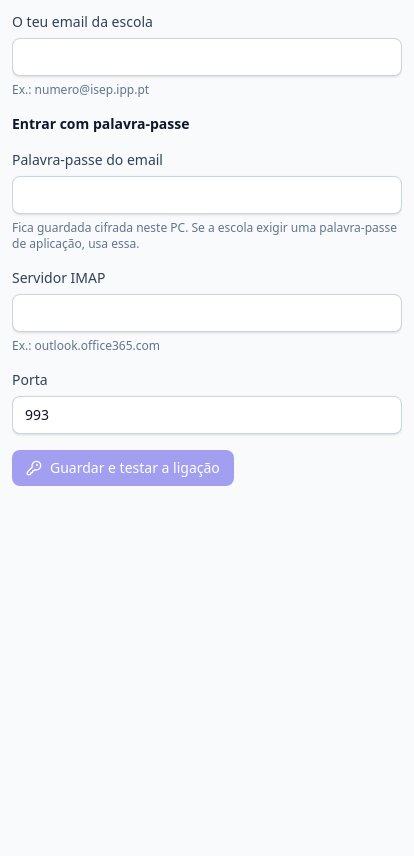
Scenario: EmailSetup: entrar com a conta da escola (Microsoft) › fora da app de secretária deixa abrir a página à parte e colar o endereço de regresso
In the field labelled "O teu email da escola": [207, 57] box [12,38,402,76], type "aluno@isep.ipp.pt"
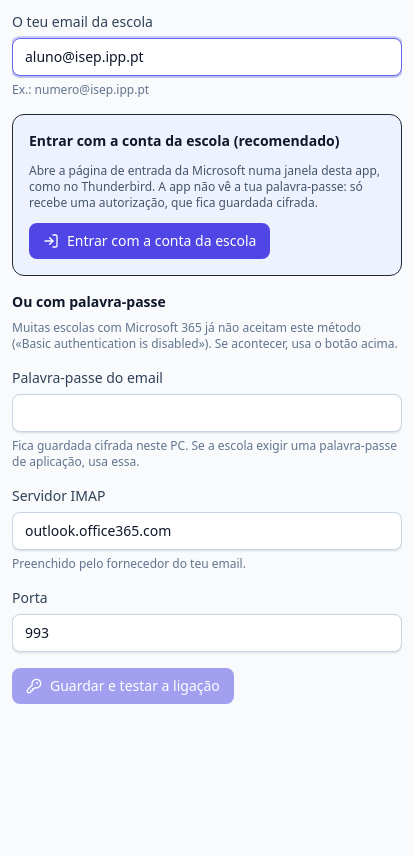
Click the button "Entrar com a conta da escola": [150, 241] box [29,223,270,259]
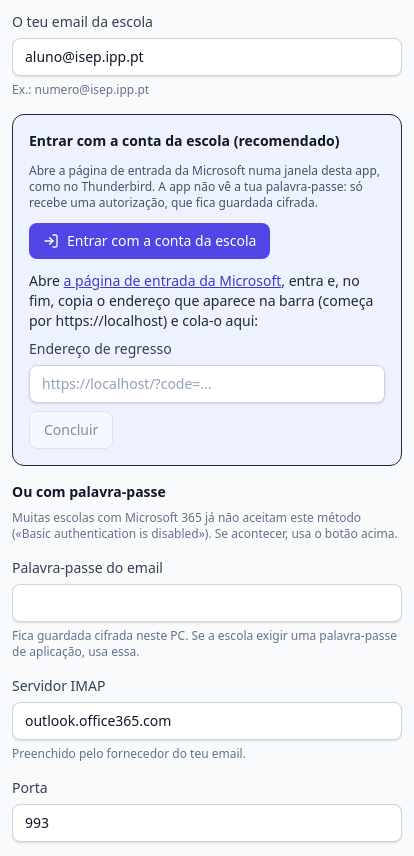
Result: the button "Concluir" is disabled at [29,411,113,449]
In the field labelled "Endereço de regresso": [207, 384] box [29,365,385,403], type "https://evil.example/?code=x"
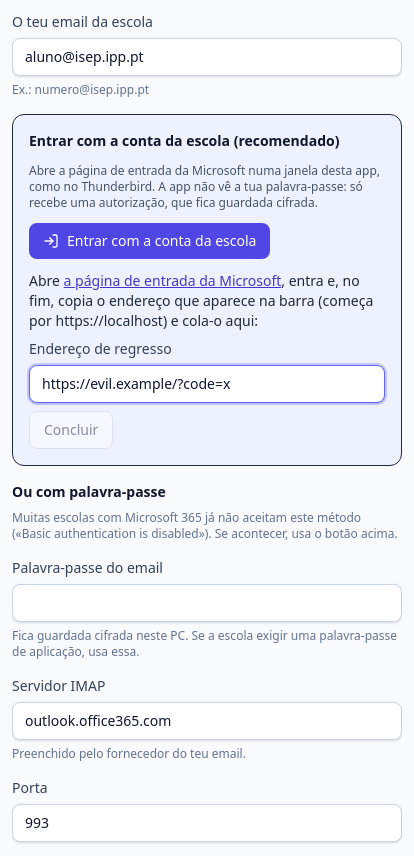
Result: the button "Concluir" is disabled at [29,411,113,449]
Replace the text in the field labelled "Endereço de regresso" with "https://localhost/?code=abc&state=s": [207, 384] box [29,365,385,403]
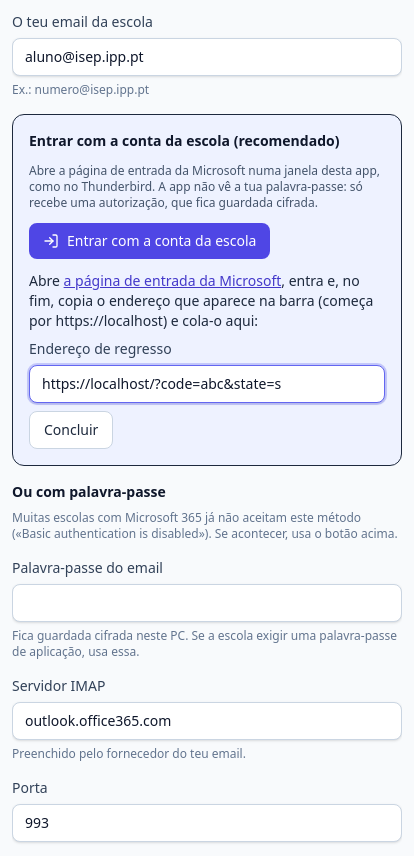
Click the button "Concluir": [71, 430] box [29,411,113,449]
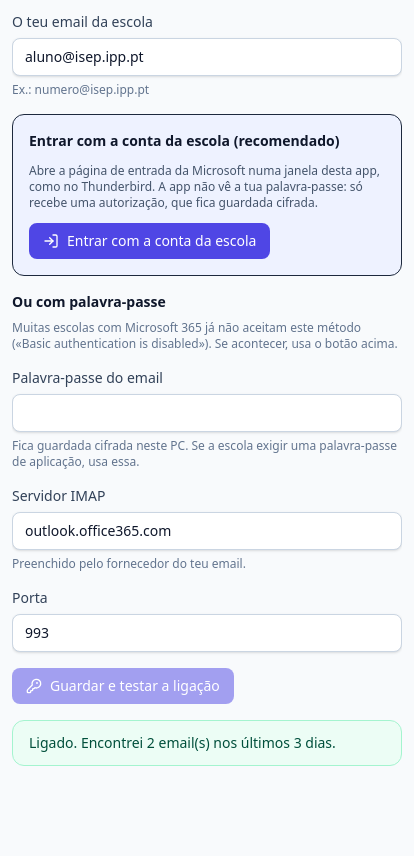
Result: the text "Ligado. Encontrei 2 email(s) nos últimos 3 dias." is shown at [12,720,402,766]
